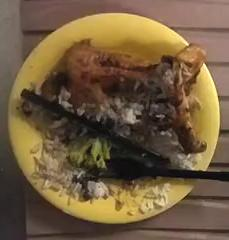broccoli: (68, 136, 110, 169)
chicken: (65, 42, 203, 110)
rice_mix: (30, 124, 111, 205), (57, 85, 151, 139)
